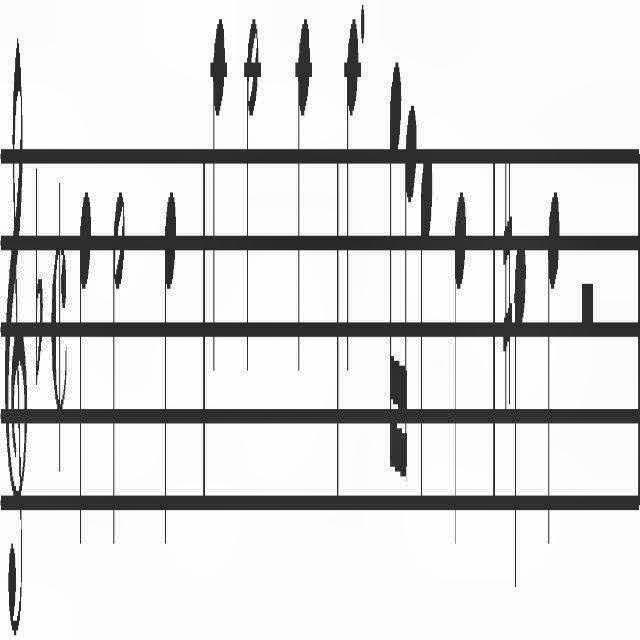Bass-clef: (1, 0, 32, 640)
Bemol: (31, 143, 45, 413)
Diez: (500, 90, 512, 414)
Half-note: (241, 9, 265, 412), (110, 159, 130, 566)
Quarter-note: (290, 1, 314, 403), (208, 0, 230, 434), (159, 139, 181, 569), (452, 147, 470, 558), (341, 1, 359, 396), (76, 168, 96, 520), (544, 168, 562, 542), (512, 188, 528, 564), (420, 122, 432, 542)
Sixteenth-note: (402, 86, 418, 506), (386, 12, 400, 484)
